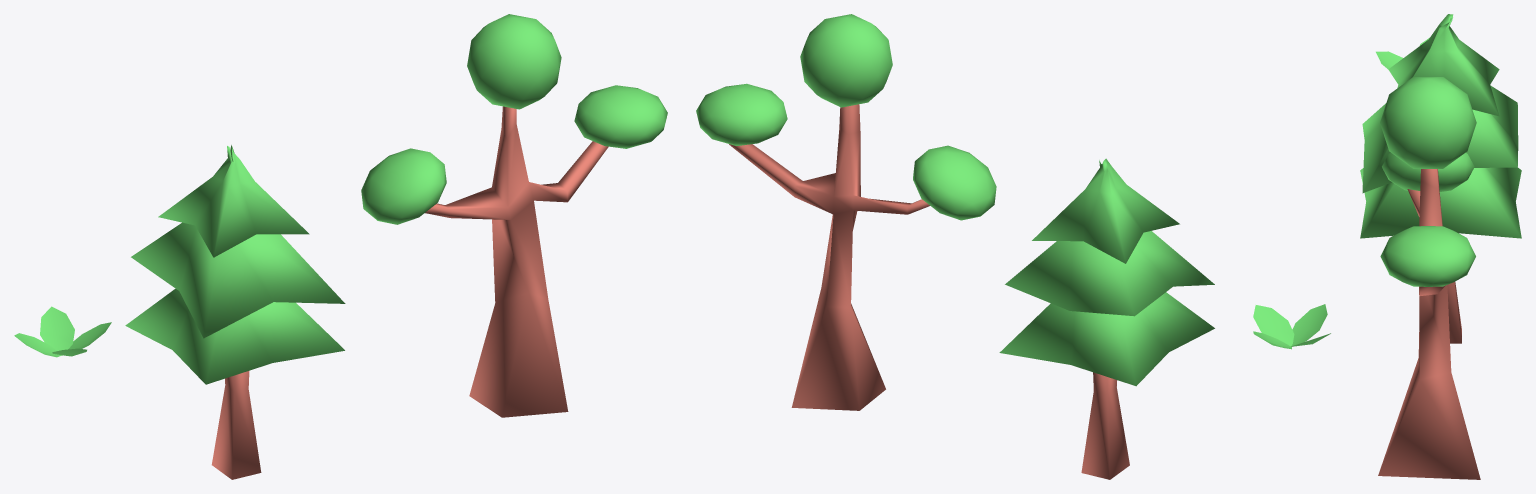
File: Treepack.fbx
The picture shows the model from 3 angles, left to right: view 1: azimuth 30°, elevation 25°; view 2: azimuth 150°, elevation 25°; view 3: azimuth 270°, elevation 25°; orthographic projection. The views are drawn at different scales.
Parts seen in each view (by area): view 1: Tree1, Tree2, Leaf; view 2: Tree1, Tree2, Leaf; view 3: Tree1, Tree2, Leaf.
Boxes of the visible parts, x1,y1,x2,y2 form: Tree1: [361, 14, 667, 417]; Tree2: [125, 145, 345, 479]; Leaf: [14, 306, 111, 357]; Tree1: [696, 14, 996, 410]; Tree2: [999, 158, 1214, 479]; Leaf: [1253, 304, 1330, 349]; Tree1: [1378, 77, 1480, 479]; Tree2: [1360, 14, 1521, 343]; Leaf: [1376, 38, 1429, 69].
Size of the model in its own units: 1987 by 1150 by 432.
